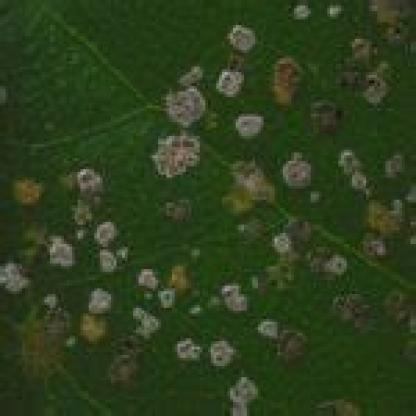black-spot: (136, 3, 416, 219), (133, 233, 416, 416), (0, 160, 128, 378)
